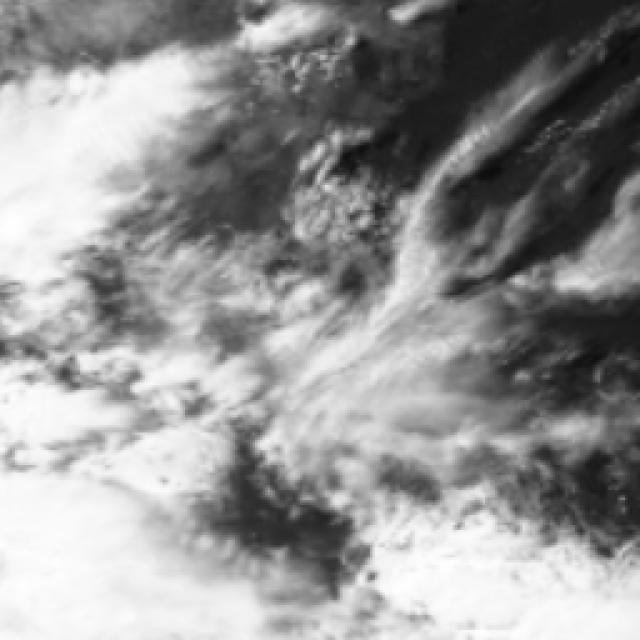CB: (6, 515, 162, 640), (6, 114, 83, 232)
